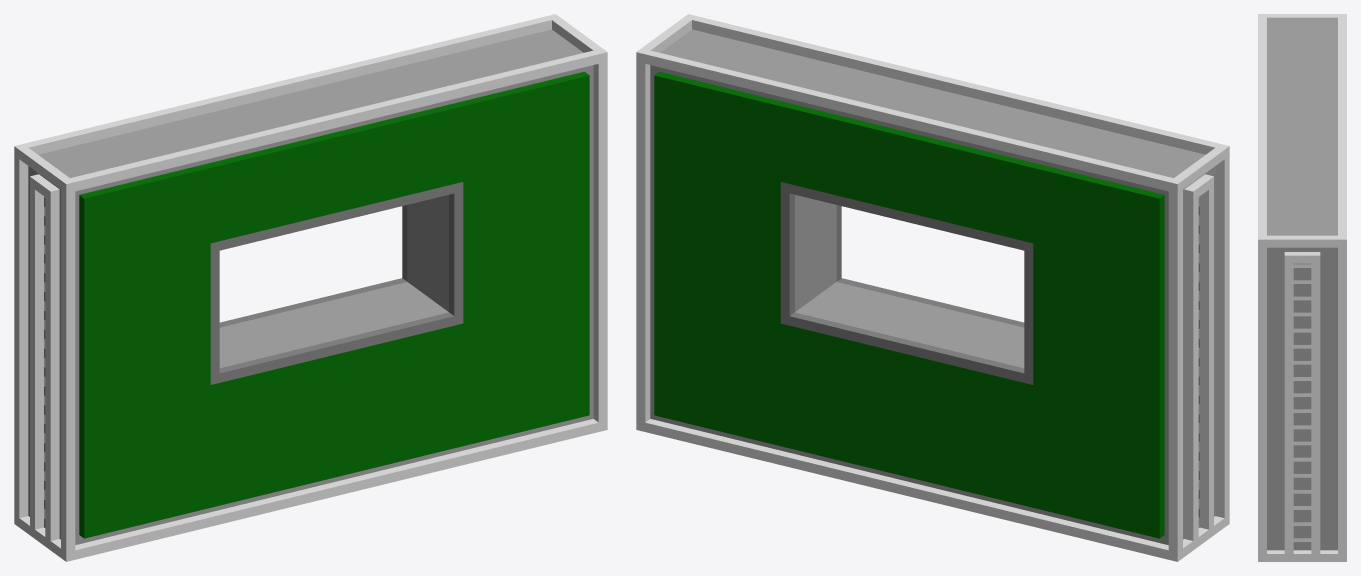
Rendered from Main Hall Wall 4.obj.
3 renders of one model, left to right at view 1: azimuth 30°, elevation 25°; view 2: azimuth 150°, elevation 25°; view 3: azimuth 270°, elevation 25°, orthographic. The views are drawn at different scales.
Size of the model in its own units: 60 by 40 by 10.
Materials: 1 (1 with a texture image).
